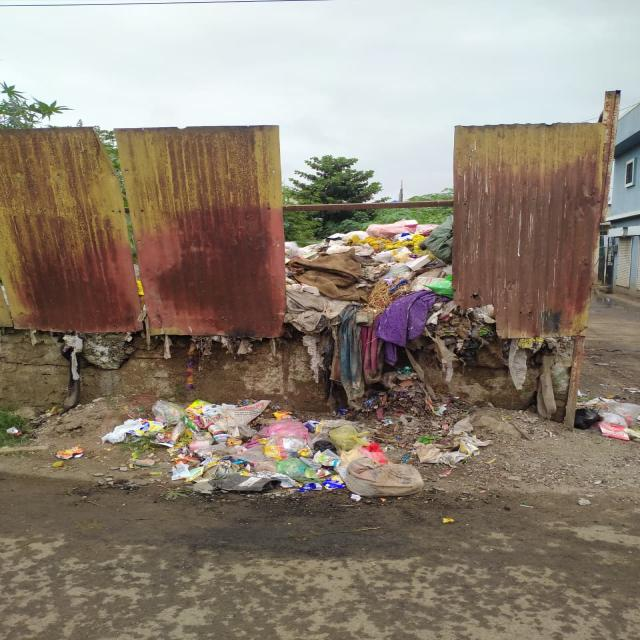garbage: (142, 394, 428, 506), (293, 222, 464, 392), (584, 393, 640, 446)
